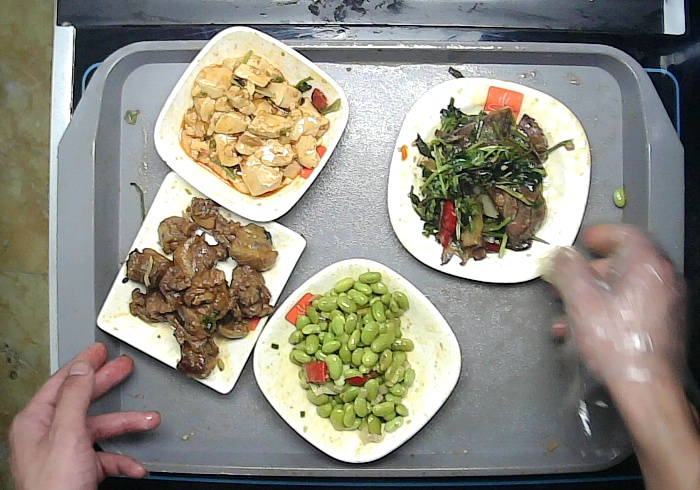SHKJ-Bai_Se_Cai_Die: (251, 258, 462, 464)
SHKJ-Bai_Se_Si_Fang_Cai_Die: (387, 74, 594, 287)
SHKJ-Bai_Se_Xiao_Fang_Die: (154, 25, 348, 226)
SHKJ-Si_Fang_Min: (96, 171, 308, 393)
